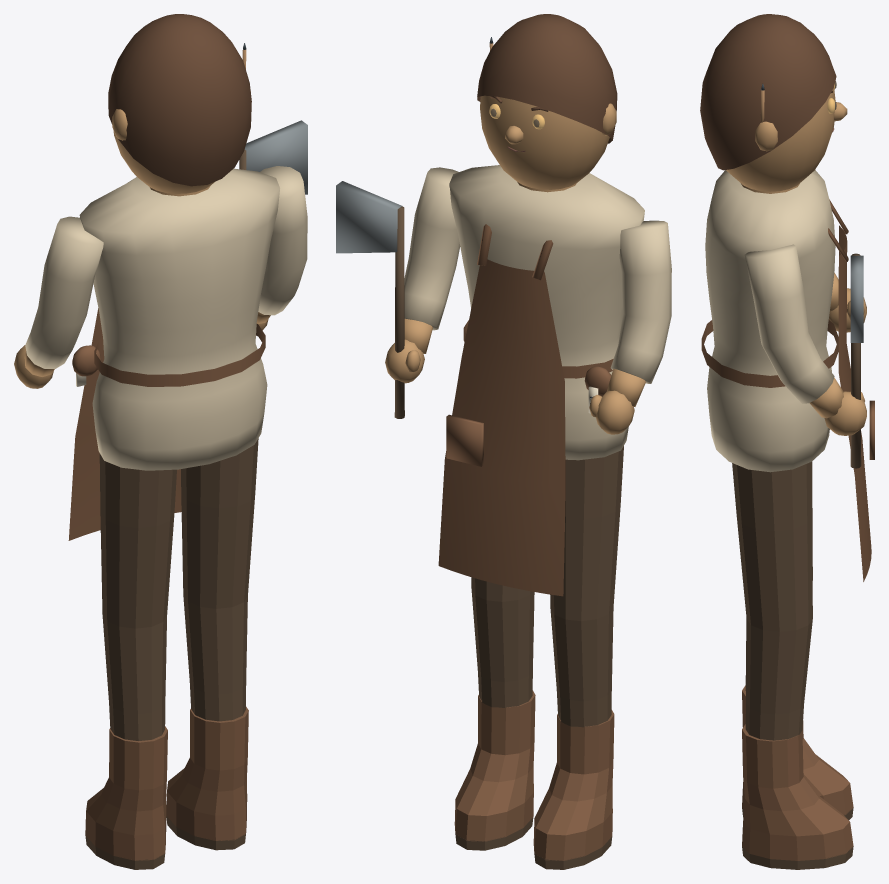
Rendered from SM_NPC_ROCKY.glb.
3 views of the same model, side by side, from view 1: azimuth 30°, elevation 25°; view 2: azimuth 150°, elevation 25°; view 3: azimuth 270°, elevation 25° (orthographic). The views are drawn at different scales.
Parts seen in each view (by area): view 1: SM_NPC_ROCKY_BODY, SM_NPC_ROCKY_LEG_L, SM_NPC_ROCKY_LEG_R, SM_NPC_ROCKY_HAIR, SM_NPC_ROCKY_ARM_L, SM_NPC_ROCKY_ARM_R, SM_NPC_ROCKY_HEAD; view 2: SM_NPC_ROCKY_BODY, SM_NPC_ROCKY_LEG_L, SM_NPC_ROCKY_LEG_R, SM_NPC_ROCKY_ARM_R, SM_NPC_ROCKY_HAIR, SM_NPC_ROCKY_ARM_L, SM_NPC_ROCKY_HEAD; view 3: SM_NPC_ROCKY_BODY, SM_NPC_ROCKY_LEG_R, SM_NPC_ROCKY_HAIR, SM_NPC_ROCKY_ARM_R, SM_NPC_ROCKY_HEAD, SM_NPC_ROCKY_LEG_L, SM_NPC_ROCKY_ARM_L.
Boxes of the visible parts, x1,y1,x2,y2 form: SM_NPC_ROCKY_BODY: (68, 168, 279, 540); SM_NPC_ROCKY_LEG_L: (85, 453, 176, 869); SM_NPC_ROCKY_LEG_R: (166, 438, 258, 850); SM_NPC_ROCKY_HAIR: (108, 14, 251, 186); SM_NPC_ROCKY_ARM_L: (14, 216, 103, 388); SM_NPC_ROCKY_ARM_R: (239, 120, 307, 330); SM_NPC_ROCKY_HEAD: (112, 43, 250, 193); SM_NPC_ROCKY_BODY: (438, 165, 644, 596); SM_NPC_ROCKY_LEG_L: (533, 446, 623, 869); SM_NPC_ROCKY_LEG_R: (454, 577, 535, 850); SM_NPC_ROCKY_ARM_R: (336, 167, 460, 418); SM_NPC_ROCKY_HAIR: (477, 14, 617, 143); SM_NPC_ROCKY_ARM_L: (589, 220, 671, 434); SM_NPC_ROCKY_HEAD: (480, 37, 616, 189); SM_NPC_ROCKY_BODY: (701, 170, 874, 581); SM_NPC_ROCKY_LEG_R: (732, 461, 853, 869); SM_NPC_ROCKY_HAIR: (700, 14, 836, 170); SM_NPC_ROCKY_ARM_R: (744, 244, 866, 468); SM_NPC_ROCKY_HEAD: (726, 83, 847, 191); SM_NPC_ROCKY_LEG_L: (742, 461, 853, 819); SM_NPC_ROCKY_ARM_L: (828, 272, 866, 332).
Size of the model in its own units: 0.6861 by 1.81 by 0.3511.
